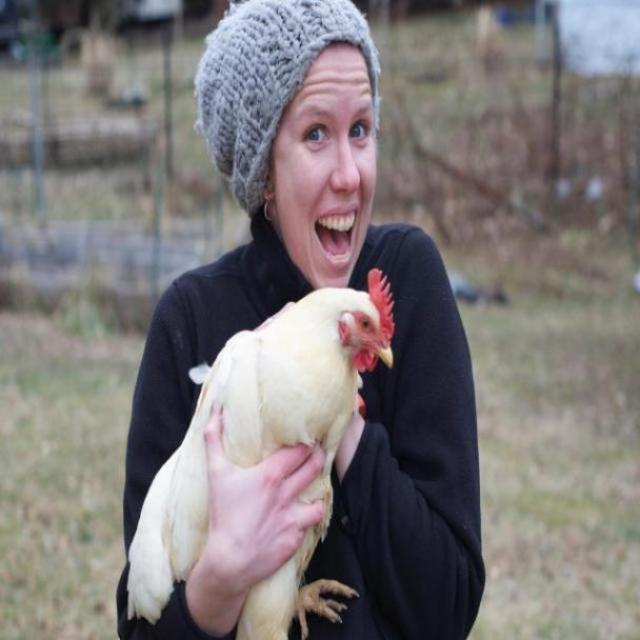Chicken: (127, 266, 394, 627)
